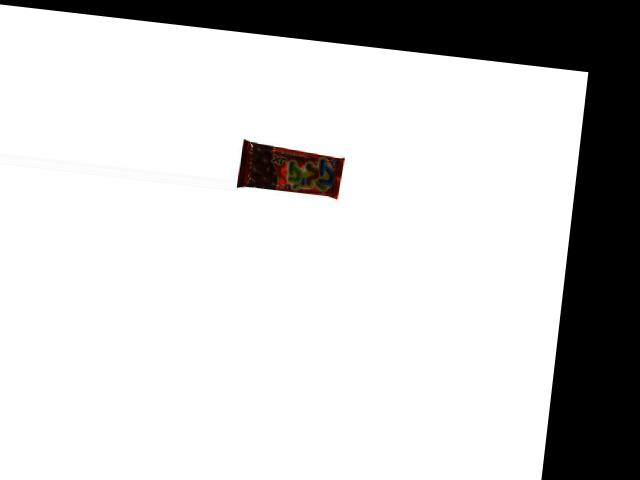chocolate: (236, 141, 345, 199)
